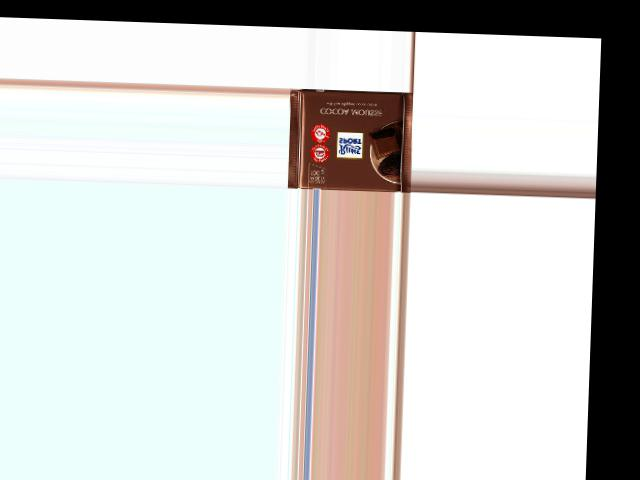chocolate: (289, 87, 413, 192)
